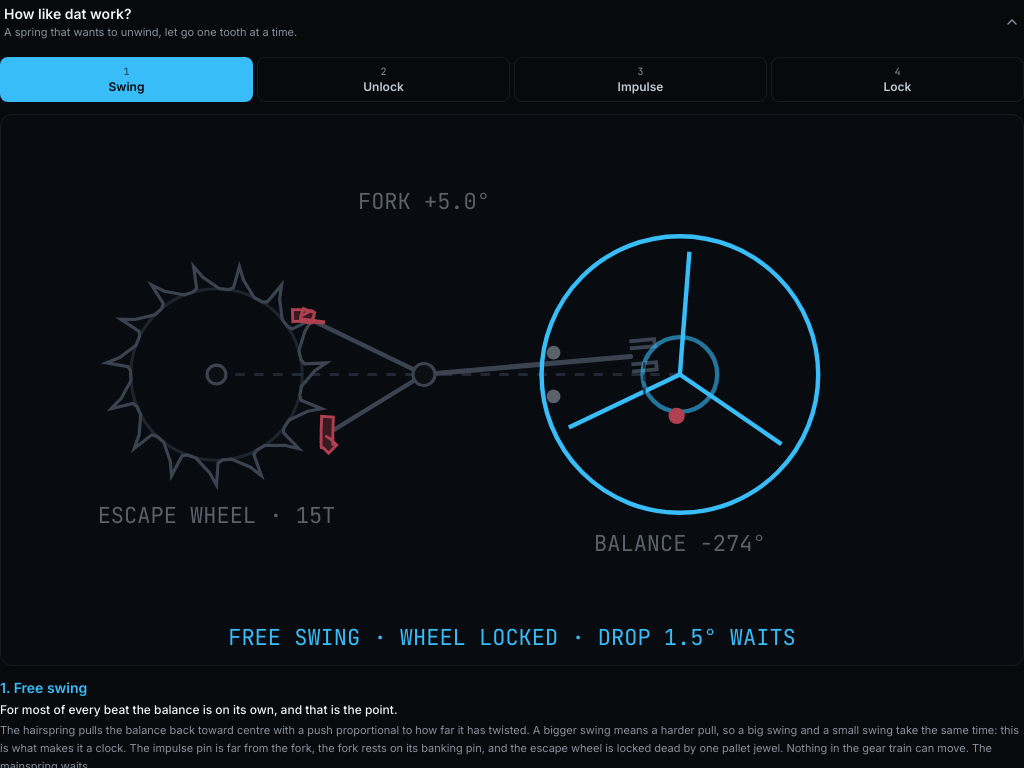
Test case: HowEscapementWork › walks the four steps and can set the 3D view up for one
Expected: the text "For most of every beat the balance is on its own, and that is the point." is shown, [0,702,398,717]
Click the button "3 Impulse": click(640, 79) [514,56,767,102]
(page scrolled)
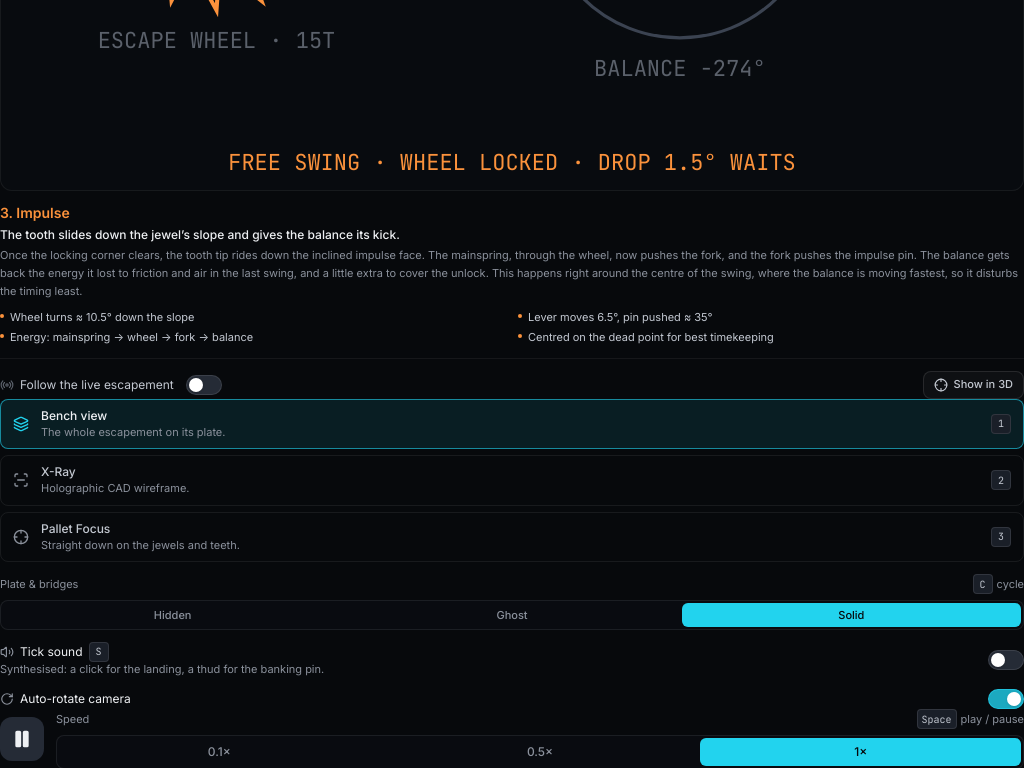
Expected: the text "The tooth slides down the jewel’s slope and gives the balance its kick." is shown, [0,227,400,242]
Click the button "Show in 3D": click(973, 385) [923,371,1023,399]
(page scrolled)
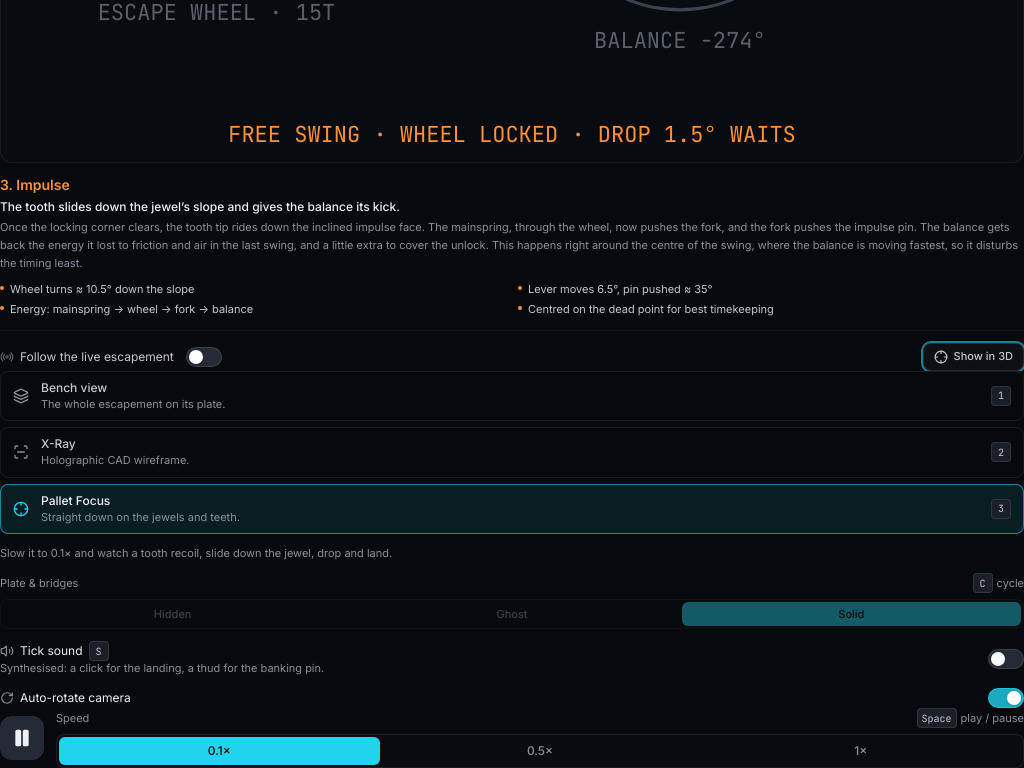
Expected: the text "Slow it to 0.1×" is shown, [0,546,392,560]
Expected: the radio button labelled "0.1×" is checked, [59,737,380,765]
